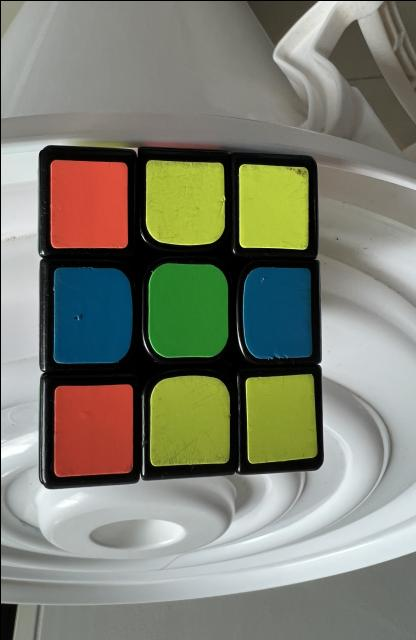Blue: (52, 266, 131, 362), (242, 266, 312, 358)
Green: (147, 262, 228, 358)
Orange: (53, 384, 132, 476), (50, 159, 127, 248)
Yellow: (148, 375, 229, 465), (144, 159, 224, 245), (245, 372, 316, 462), (238, 162, 308, 249)
